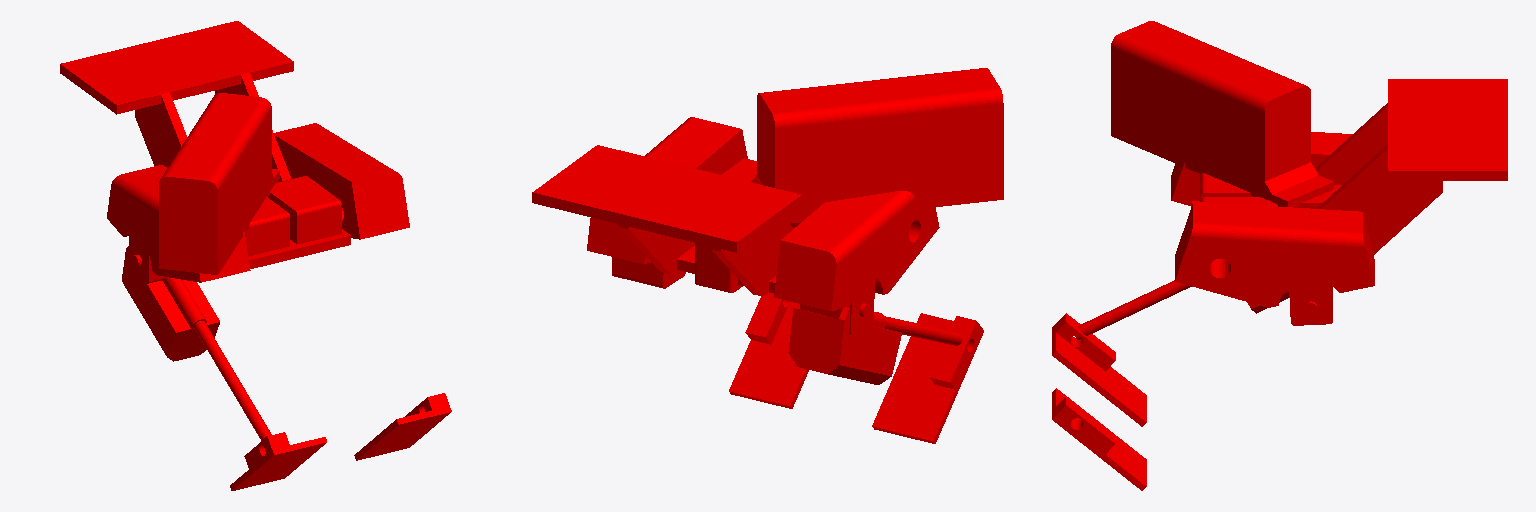
The robot description file, URDF, robot "Struthio_mk1":
<?xml version="1.0"?>
<robot name="Struthio_mk1">
	<link name ="link_base">
            <inertial>
		    <origin xyz="0 0.03 0.02" rpy="0 0 0"/>
	                      <mass value="0.050"/>
	                    <inertia ixx="0" ixy="0" ixz="0" iyy="0" iyz="0.0" izz="0.0"/>
              </inertial>
	      <visual>
		            <geometry>
				                  <mesh filename="package://Struthio_mk1/mesh/link_base_b.stl"/>
						        </geometry>
							      <origin xyz="0 0 0" rpy="0 0 0"/>
							             <material name = "red">
									            <color rgba="1.0 0.0 0.0 2.0"/>
										          </material>
											      </visual>
    <!--collision-->
                                <!--geometry-->
					<!--mesh filename="package://Struthio_mk1/mesh/link_base.stl"/-->	
				<!--/geometry-->
  <!--/collisioa-->
										      </link>

    <gazebo reference="link_base">
	    <material>Gazebo/Gray</material>
	    <mu1 value="0.5" />
	    <mu2 value="0.5" />
    </gazebo>

      <link name ="link_battery">
                 <inertial>
                         <origin xyz="0 -0.08 0.02" rpy="0 0 0"/>
                                                         <mass value="0.050"/>
                                                                         <inertia ixx="0" ixy="0.0" ixz="0.0" iyy="0.0" iyz="0" izz="0"/>
                                                                                 </inertial>


              <visual>
      <geometry>
              <mesh filename="package://Struthio_mk1/mesh/link_battery_b.stl"/>
      </geometry>
      <origin xyz="0 0 0" rpy="0 0 0"/>
       <material name = "red">
       <color rgba="1.0 0.0 0.0 2.0"/>
      </material>
    </visual>

    <collision>
            <geometry>
                    <mesh filename="package://Struthio_mk1/mesh/link_battery_b.stl"/>
    </geometry>
    </collision>
    </link>

    <gazebo reference="link_battery">
            <material>Gazebo/Gray</material>
            <mu1 value="0.5"/>
            <mu2 value="0.5"/>
    </gazebo>

    <joint name="joint_battery" type="revolute">
     <parent link="link_base"/>
     <child link="link_battery"/>
     <origin xyz="0 0.01 0.02" rpy="0 0 0"/>
     <axis xyz="0 0 1" />
     <limit lower="-1.57" upper="-0.007" effort="0.49" velocity="50"/>
     <friction friction="0.01"/>
     <dynamics damping="0.4"/>
    </joint>

     <transmission name="tran_battery">
	     <type>transmission_interface/SimpleTransmission</type>
	     <joint name="joint_battery">
	 <!--hardwareInterface>hardware_interface/PositionJointInterface</hardwareInterface-->
 <hardwareInterface>hardware_interface/EffortJointInterface</hardwareInterface>				   
	</joint>
				   <actuator name="motor_battery">
					   <!--hardwareInterface>PositionJointInterface</hardwareInterface-->
		<hardwareInterface>EffortJointInterface</hardwareInterface>
       <mechanismReduction>1</mechanismReduction>
      </actuator>
      </transmission>


     <joint name="joint_upperLegL" type="revolute">
     <parent link="link_base"/>
     <child link="link_upperLegL"/>
     <origin xyz="0.045 -0.027 0.0123" rpy="-0.3 0 0"/>
     <axis xyz="1 0 0" />
     <limit lower="-1.57" upper="1.57" effort="0.49" velocity="50.0"/>
     <friction friction="0.01"/>
     <dynamics damping="0.1"/>
     </joint>

     <transmission name="tran_upperLegL">
	     <type>transmission_interface/SimpleTransmission</type>
	         <joint name="joint_upperLegL">
			 <hardwareInterface>hardware_interface/EffortJointInterface</hardwareInterface>
			           </joint>
				   <actuator name="motor_upperLegL">
					   <hardwareInterface>EffortJointInterface</hardwareInterface>
       <mechanismReduction>1</mechanismReduction>
      </actuator>
      </transmission>

      <link name ="link_upperLegL">
	         <inertial>
			 <origin xyz="0 0.01 0.0" rpy="0 0 0"/>
					                 <mass value="0.03"/>
							                 <inertia ixx="0.0" ixy="0" ixz="0" iyy="0.0" iyz="0" izz="0"/>
									         </inertial>


	      <visual>
      <geometry>
	      <mesh filename="package://Struthio_mk1/mesh/link_upperLegL_b.stl"/>
      </geometry>
      <origin xyz="0 0 0" rpy="0 0 0"/>
       <material name = "red">
       <color rgba="1.0 0.0 0.0 2.0"/>
      </material>
    </visual>

    <collision>  
	    <geometry> 
		    <mesh filename="package://Struthio_mk1/mesh/link_upperLegL_b.stl"/> 
    </geometry>   
    </collision> 
    </link>

    <gazebo reference="link_upperLegL">
	    <material>Gazebo/Gray</material>
	    <mu1 value="0.5"/>
	    <mu2 value="0.5"/>
    </gazebo>

    <joint name="joint_lowerLegL" type="revolute">
     <parent link="link_upperLegL"/>
     <child link="link_lowerLegL"/>
     <origin xyz="0 0.047 -0.007" rpy="1.57 0 0"/>
     <axis xyz="1 0 0" />
     <limit lower="-1.57" upper="-0.007" effort="0.49" velocity="50"/>
     <friction friction="0.01"/>
     <dynamics damping="0.4"/>
    </joint>
     <transmission name="tran_lowerLegL">
             <type>transmission_interface/SimpleTransmission</type>
                 <joint name="joint_lowerLegL">
                         <hardwareInterface>hardware_interface/EffortJointInterface</hardwareInterface>
                                   </joint>
                                   <actuator name="motor_lowerLegL">
                                           <hardwareInterface>EffortJointInterface</hardwareInterface>
       <mechanismReduction>1</mechanismReduction>
      </actuator>
      </transmission>

    <link name ="link_lowerLegL">
	   
	           <inertial>
			   <origin xyz="0 -0.023 -0.014" rpy="0 0 0"/>
					                   <mass value="0.012"/>
							                   <inertia ixx="0.0" ixy="0" ixz="0" iyy="0.0" iyz="0" izz="0.0"/>
									           </inertial>


	    <visual>
		      <geometry>
			                    <mesh filename="package://Struthio_mk1/mesh/link_lowerLegL_b.stl"/>
					          </geometry>
						        <origin xyz="0 0 0" rpy="0 0 0"/>
							       <material name = "red">
								              <color rgba="1.0 0.0 0.0 2.0"/>
									            </material>
									    </visual>
									    <collision>                                                                     

										    <geometry> 
											    <mesh filename="package://Struthio_mk1/mesh/link_lowerLegL_b.stl"/> 
										    </geometry>
										       </collision>   
									       </link>

    <joint name="joint_footL" type="revolute">
     <parent link="link_lowerLegL"/>
     <child link="link_footL"/>
     <origin xyz="-0.01 -0.125 -0.005" rpy="-1.2 0 0"/>
     <axis xyz="1 0 0"/>
     <limit lower="-1.57" upper="1.57" effort="0.49" velocity="50"/>
     <friction friction="0.01"/>
     <dynamics damping="0.4"/>
    </joint>
     <transmission name="tran_footL">
             <type>transmission_interface/SimpleTransmission</type>
                 <joint name="joint_footL">
                         <hardwareInterface>hardware_interface/EffortJointInterface</hardwareInterface>
                                   </joint>
                                   <actuator name="motor_footL">
                                           <hardwareInterface>EffortJointInterface</hardwareInterface>
       <mechanismReduction>1</mechanismReduction>
      </actuator>
      </transmission>

    <link name="link_footL">
                    <inertial>
                            <origin xyz="0 0.015 0" rpy="0 0 0"/>
                                                            <mass value="0.002"/>
                                                                            <inertia ixx="0" ixy="0" ixz="0" iyy="0" iyz="0" izz="0"/>
                                                                                    </inertial>
	         <visual>
			       <geometry>
				                     <mesh filename="package://Struthio_mk1/mesh/link_footL_b.stl"/>
						           </geometry>
							         <origin xyz="0 0 0" rpy="0 0 0"/>
								        <material name = "red">
										       <color rgba="1.0 0.0 0.0 2.0"/>
										             </material>
										     </visual>
										     <collision>                                                                                                      
											     <geometry>                                                                                                                                                                                                                             
												     <mesh filename="package://Struthio_mk1/mesh/link_footL_b.stl"/>                                                                                                                                                     
											     </geometry>                                                                                                                                                                                                                   
										     </collision>   
									     </link>

	 <joint name="joint_upperLegR" type="revolute">
     <parent link="link_base"/>
     <child link="link_upperLegR"/>
     <origin xyz="-0.045 -0.027 0.0123" rpy="-0.3 0 0"/>
     <axis xyz="1 0 0" />
     <limit lower="-1.57" upper="1.57" effort="0.49" velocity="50.0"/>
     <friction friction="0.01"/>
     <dynamics damping="0.1"/>
     </joint>

     <transmission name="tran_upperLegR">
             <type>transmission_interface/SimpleTransmission</type>
                 <joint name="joint_upperLegR">
                         <hardwareInterface>hardware_interface/EffortJointInterface</hardwareInterface>
                                   </joint>
                                   <actuator name="motor_upperLegR">
                                           <hardwareInterface>EffortJointInterface</hardwareInterface>
       <mechanismReduction>1</mechanismReduction>
      </actuator>
      </transmission>

      <link name ="link_upperLegR">
                 <inertial>
			 <origin xyz="0 0.01 0.0" rpy="0 0 0"/>
                                                         <mass value="0.03"/>
                                                                         <inertia ixx="0.0" ixy="0" ixz="0" iyy="0.0" iyz="0" izz="0"/>
                                                                                 </inertial>
              <visual>
      <geometry>
              <mesh filename="package://Struthio_mk1/mesh/link_upperLegR_b.stl"/>
      </geometry>
      <origin xyz="0 0 0" rpy="0 0 0"/>
       <material name = "red">
       <color rgba="1.0 0.0 0.0 2.0"/>
      </material>
    </visual>

    <collision>
            <geometry>
                    <mesh filename="package://Struthio_mk1/mesh/link_upperLegR_b.stl"/>
    </geometry>
    </collision>
    </link>

    <gazebo reference="link_upperLegR">
            <material>Gazebo/Gray</material>
            <mu1 value="0.5"/>
            <mu2 value="0.5"/>
    </gazebo>

    <joint name="joint_lowerLegR" type="revolute">
     <parent link="link_upperLegR"/>
     <child link="link_lowerLegR"/>
     <origin xyz="0 0.047 -0.007" rpy="1.57 0 0"/>
     <axis xyz="1 0 0" />
     <limit lower="-1.57" upper="-0.007" effort="0.49" velocity="50"/>
     <friction friction="0.01"/>
     <dynamics damping="0.4"/>
    </joint>
         <transmission name="tran_lowerLegR">
             <type>transmission_interface/SimpleTransmission</type>
                 <joint name="joint_lowerLegR">
                         <hardwareInterface>hardware_interface/EffortJointInterface</hardwareInterface>
                                   </joint>
                                   <actuator name="motor_lowerLegR">
                                           <hardwareInterface>EffortJointInterface</hardwareInterface>
       <mechanismReduction>1</mechanismReduction>
      </actuator>
      </transmission>

    <link name ="link_lowerLegR">
                   <inertial>
                           <origin xyz="0 -0.023 -0.014" rpy="0 0 0"/>
                                                           <mass value="0.012"/>
                                                                           <inertia ixx="0.0" ixy="0" ixz="0" iyy="0.0" iyz="0" izz="0.0"/>
                                                                                   </inertial>
            <visual>
                      <geometry>
                                            <mesh filename="package://Struthio_mk1/mesh/link_lowerLegR_b.stl"/>
                                                  </geometry>
                                                        <origin xyz="0 0 0" rpy="0 0 0"/>
                                                               <material name = "red">
                                                                              <color rgba="1.0 0.0 0.0 2.0"/>
                                                                                    </material>
                                                                            </visual>
                                                                            <collision>

                                                                                    <geometry>
                                                                                            <mesh filename="package://Struthio_mk1/mesh/link_lowerLegR_b.stl"/>
                                                                                    </geometry>
                                                                                       </collision>
                                                                               </link>

    <joint name="joint_footR" type="revolute">
     <parent link="link_lowerLegR"/>
     <child link="link_footR"/>
     <origin xyz="0.01 -0.125 -0.005" rpy="-1.2 0 0"/>
     <axis xyz="1 0 0"/>
     <limit lower="-1.57" upper="1.57" effort="0.49" velocity="50"/>
     <friction friction="0.01"/>
     <dynamics damping="0.4"/>
    </joint>
         <transmission name="tran_footR">
             <type>transmission_interface/SimpleTransmission</type>
                 <joint name="joint_footR">
                         <hardwareInterface>hardware_interface/EffortJointInterface</hardwareInterface>
                                   </joint>
                                   <actuator name="motor_footR">
                                           <hardwareInterface>EffortJointInterface</hardwareInterface>
       <mechanismReduction>1</mechanismReduction>
      </actuator>
      </transmission>

    <link name="link_footR">
                    <inertial>
                            <origin xyz="0 0.015 0" rpy="0 0 0"/>
                                                            <mass value="0.002"/>
                                                                            <inertia ixx="0" ixy="0" ixz="0" iyy="0" iyz="0" izz="0"/>
                                                                                    </inertial>


                 <visual>
                               <geometry>
                                                     <mesh filename="package://Struthio_mk1/mesh/link_footR_b.stl"/>
                                                           </geometry>
                                                                 <origin xyz="0 0 0" rpy="0 0 0"/>
                                                                        <material name = "red">
                                                                                       <color rgba="1.0 0.0 0.0 2.0"/>
                                                                                             </material>
                                                                                     </visual>
                                                                                     <collision>
                                                                                             <geometry>                                                                                                        
                                                                                                     <mesh filename="package://Struthio_mk1/mesh/link_footR_b.stl"/>                                           
                                                                                             </geometry>                                                                                                       
                                                                                     </collision>
                                                                             </link>




  <gazebo>
	      <plugin name="gazebo_ros_control" filename="libgazebo_ros_control.so">
		            <robotNamespace>/Struthio_mk1</robotNamespace>
			        </plugin>
				  </gazebo>
			  
			  </robot>

--- What the picture shows (computed from the rendered views, not written in the file) ---
Views: 3 orthographic renders of the robot side by side, from view 1: azimuth 30°, elevation 25°; view 2: azimuth 150°, elevation 25°; view 3: azimuth 270°, elevation 25°.
Robot: Struthio_mk1 — 8 links, 7 joints (7 revolute); root link link_base; default pose: joints at zero except 3 at the middle of their limits (joint_battery = -0.7885, joint_lowerLegL = -0.7885, joint_lowerLegR = -0.7885).
Visible links, largest first — view 1: link_base, link_battery, link_upperLegL, link_lowerLegR, link_upperLegR, link_footR, link_footL; view 2: link_battery, link_base, link_upperLegR, link_footR, link_lowerLegR, link_upperLegL, link_footL; view 3: link_battery, link_base, link_upperLegL, link_footR, link_footL, link_upperLegR, link_lowerLegR.
Boxes of the visible links, bbox=[...] form: link_base: bbox=[60, 21, 350, 268]; link_battery: bbox=[159, 93, 279, 274]; link_upperLegL: bbox=[274, 123, 409, 239]; link_lowerLegR: bbox=[122, 246, 271, 440]; link_upperLegR: bbox=[107, 165, 250, 283]; link_footR: bbox=[230, 432, 326, 490]; link_footL: bbox=[354, 393, 451, 460]; link_battery: bbox=[751, 68, 1003, 223]; link_base: bbox=[532, 145, 801, 296]; link_upperLegR: bbox=[774, 191, 939, 335]; link_footR: bbox=[872, 313, 983, 443]; link_lowerLegR: bbox=[788, 307, 962, 384]; link_upperLegL: bbox=[587, 117, 747, 288]; link_footL: bbox=[729, 292, 808, 408]; link_battery: bbox=[1111, 21, 1333, 207]; link_base: bbox=[1192, 79, 1507, 254]; link_upperLegL: bbox=[1175, 201, 1374, 325]; link_footR: bbox=[1052, 313, 1146, 426]; link_footL: bbox=[1052, 388, 1146, 490]; link_upperLegR: bbox=[1171, 132, 1352, 206]; link_lowerLegR: bbox=[1075, 280, 1288, 339].
Size in the robot's own frame: 0.1468 by 0.2091 by 0.1757 metres.
7 mesh visuals loaded from 8 distinct referenced files (7 binary STL); not drawn: 1 (reference not matched to a file when rendering).